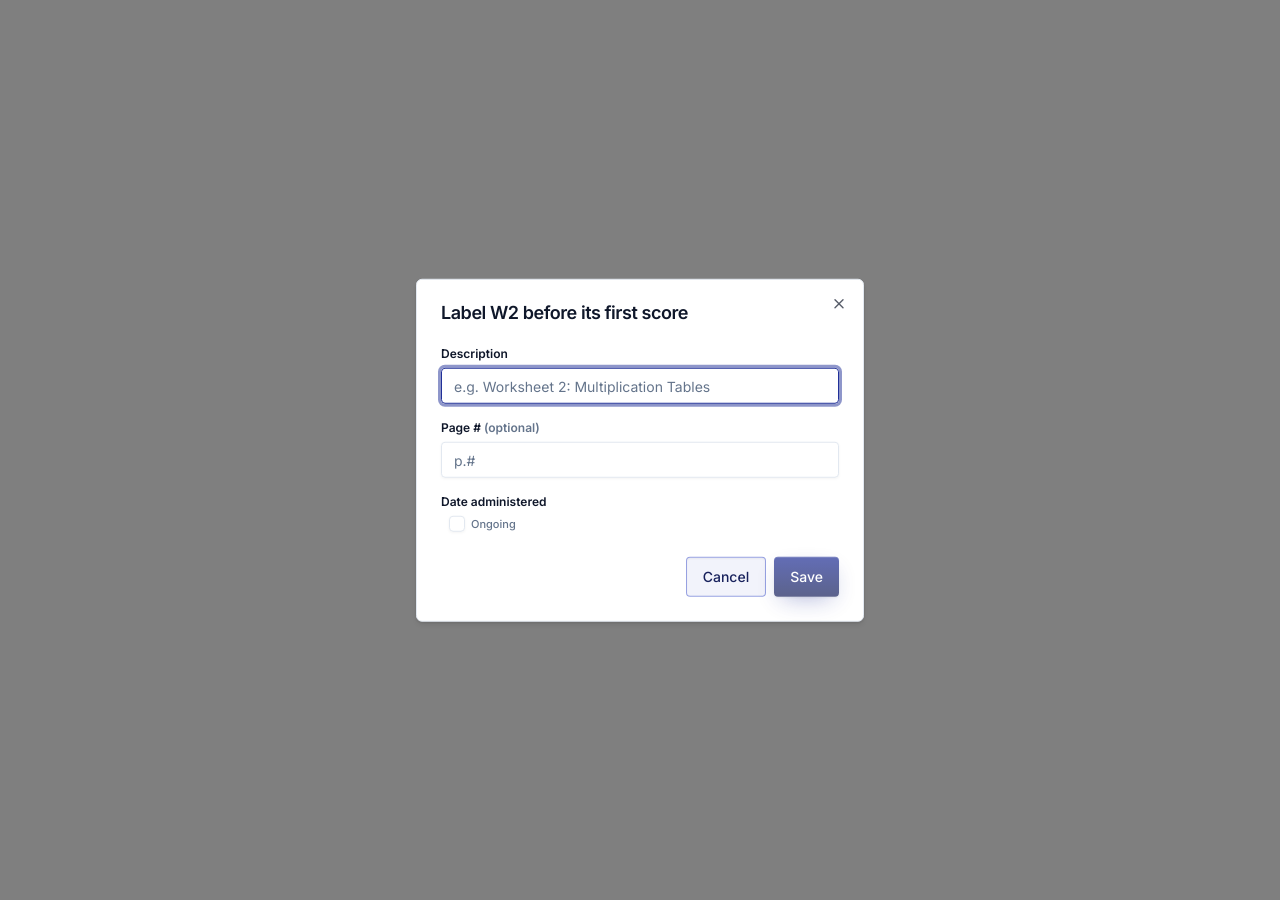
Test case: FirstScoreLabelDialog › WW/PT mode: Save is disabled until BOTH description and date are filled
Expected: the button "Save" is disabled, [774,556,839,596]
In the field labelled "Description": x=640, y=386 [441,368,839,404], type "Worksheet 2"
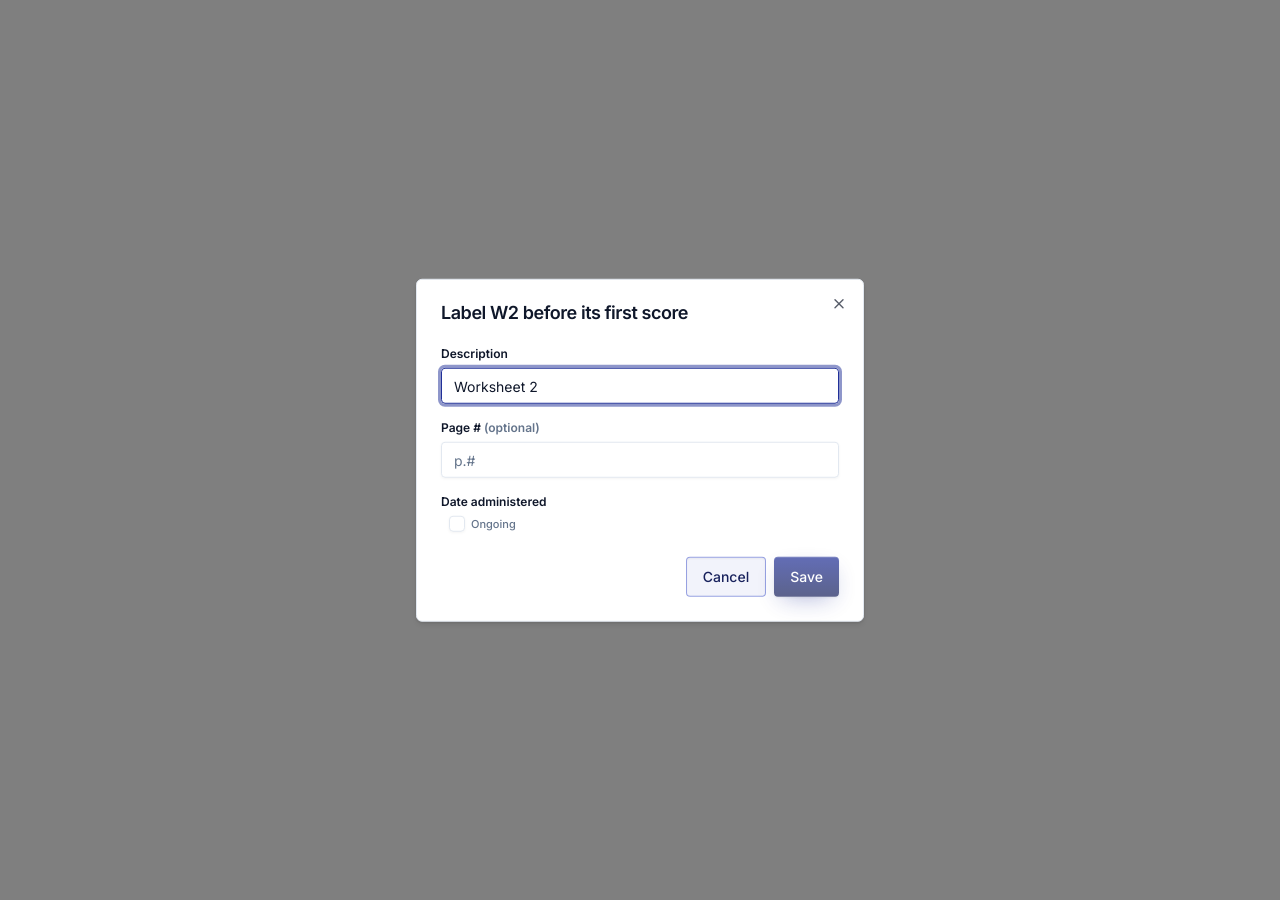
Expected: the button "Save" is disabled, [774,556,839,596]
Click the checkbox named "ongoing": x=457, y=524 [449,516,465,532]
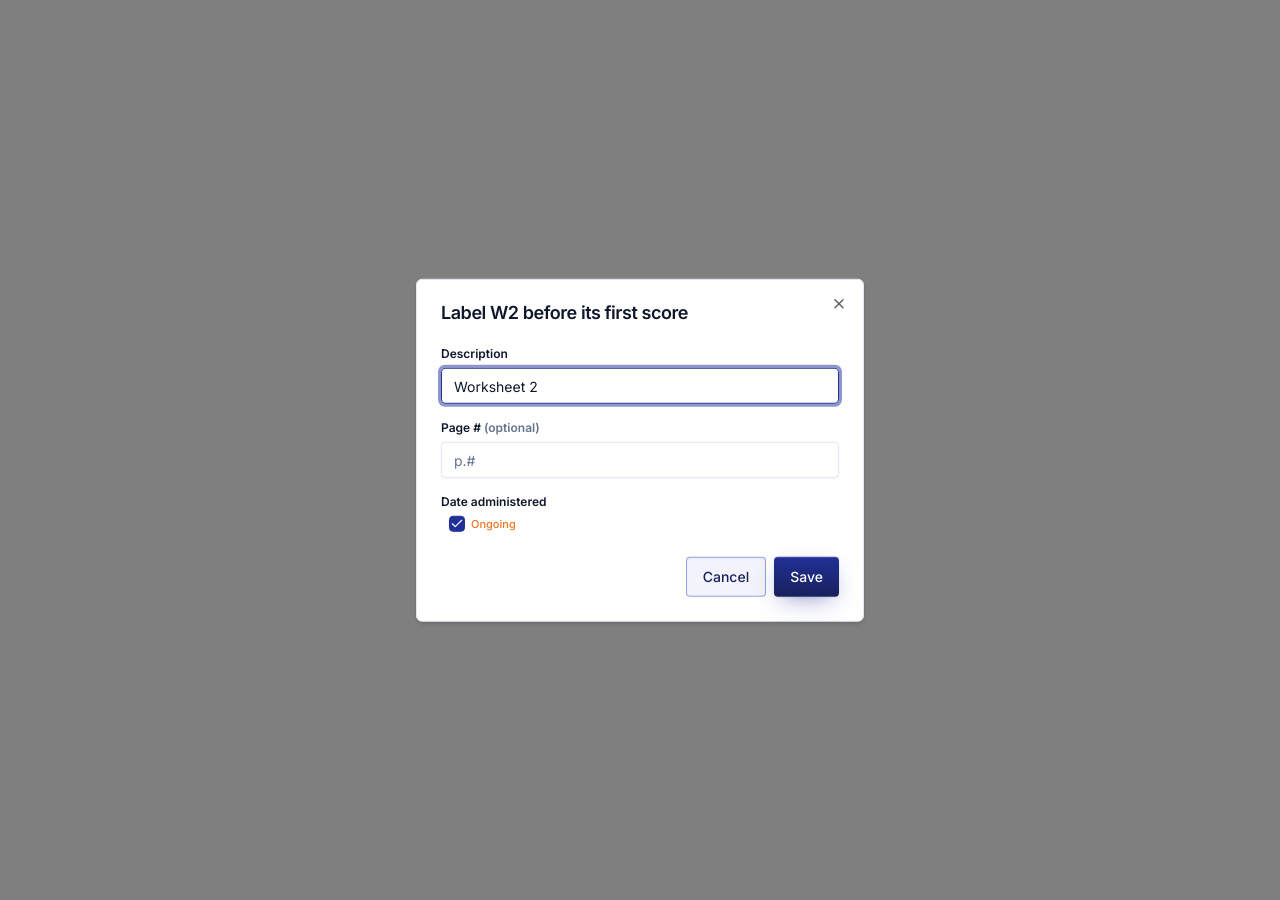
Expected: the button "Save" is enabled, [774,556,839,596]
